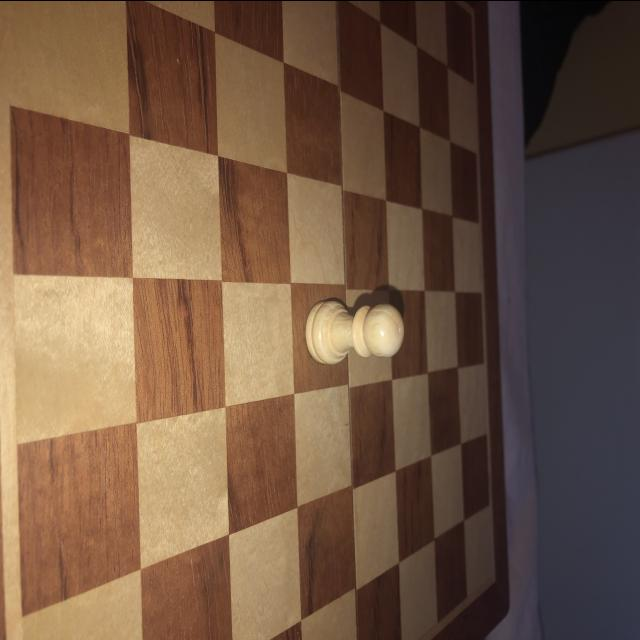white_pawn: (299, 297, 405, 365)
